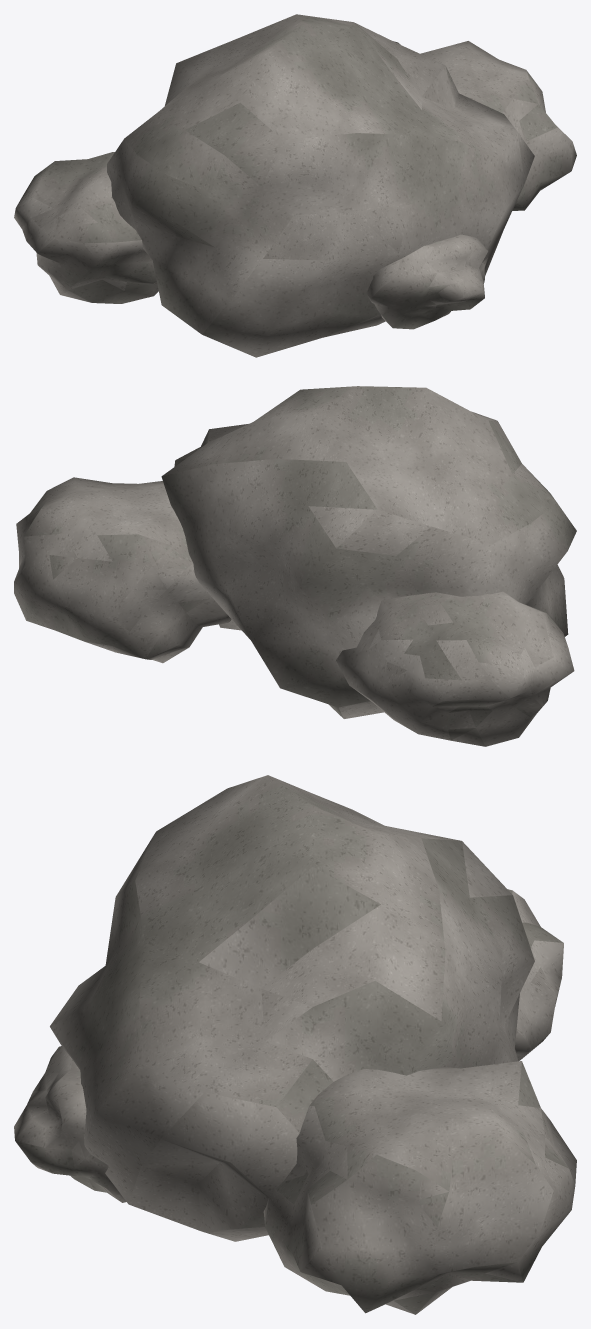
Rendered from boulders.glb.
3 renders of one model, top to bottom at view 1: azimuth 30°, elevation 25°; view 2: azimuth 150°, elevation 25°; view 3: azimuth 270°, elevation 25°, orthographic. The views are drawn at different scales.
Parts seen in each view (by area): view 1: Boulders; view 2: Boulders; view 3: Boulders.
Part boxes in pixels (x1,y1,x2,y2): Boulders: [14, 14, 576, 357]; Boulders: [14, 386, 576, 746]; Boulders: [14, 775, 576, 1314].
Size of what is drawn, in the model's own units: 4.04 by 2.06 by 2.74.
Materials: 1 (1 with a texture image).
